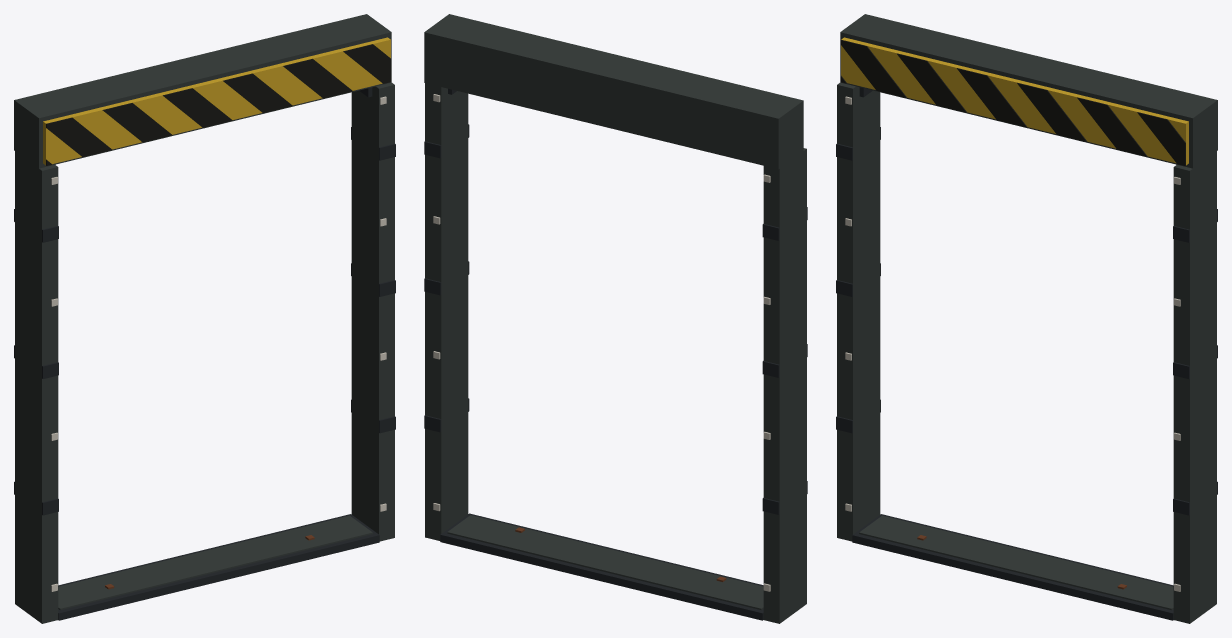
The model's file is door_frame.glb.
3 views of the same model, side by side, from view 1: azimuth 30°, elevation 25°; view 2: azimuth 150°, elevation 25°; view 3: azimuth 330°, elevation 25° (orthographic).
Visible parts, largest first — view 1: door_frame; view 2: door_frame; view 3: door_frame.
Part boxes in pixels (left/top/right/bottom): door_frame: left=14, top=14, right=395, bottom=623; door_frame: left=424, top=14, right=807, bottom=623; door_frame: left=836, top=14, right=1217, bottom=623.
Size of the model in its own units: 1.76 by 2.4 by 0.25.
